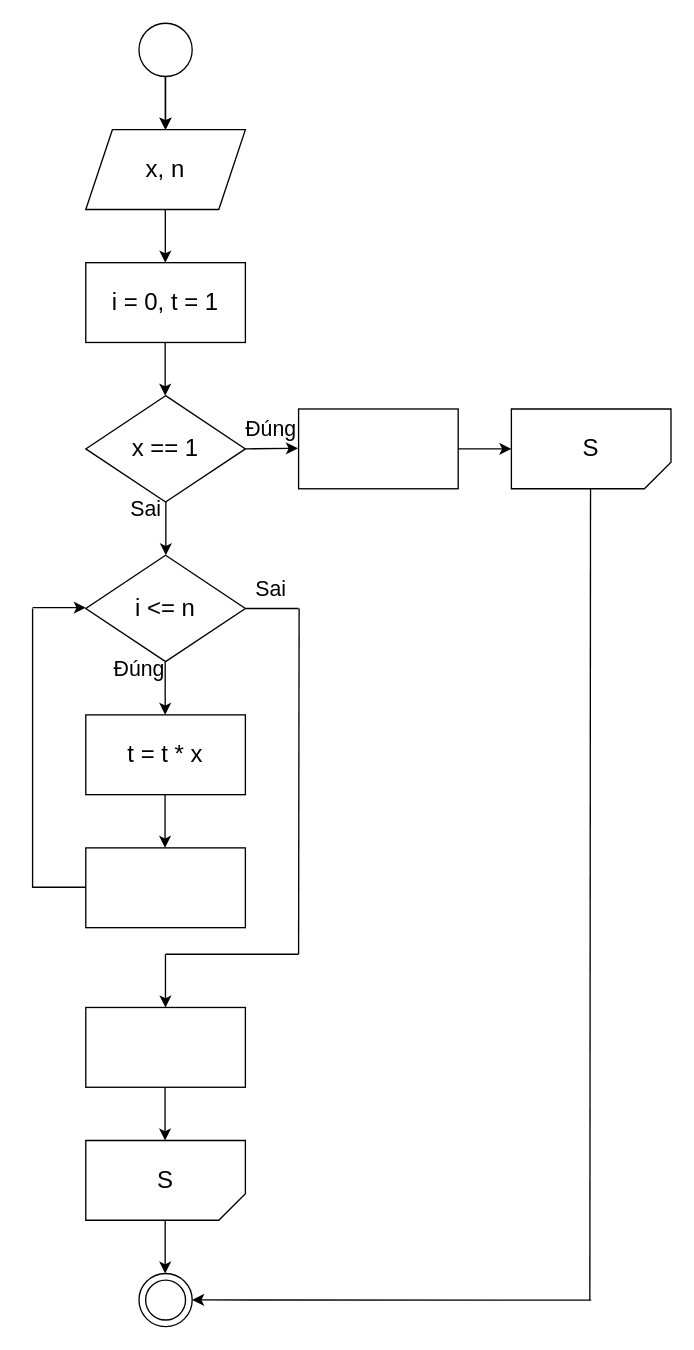
Image size: 694x1350. Some labels were removed from this diagram. Each missing label, with the centre of its shape:
i = i + 1: (164,887)
S = (t - 1) / (x - 1) - 1: (164,1046)
S = n: (377,448)
